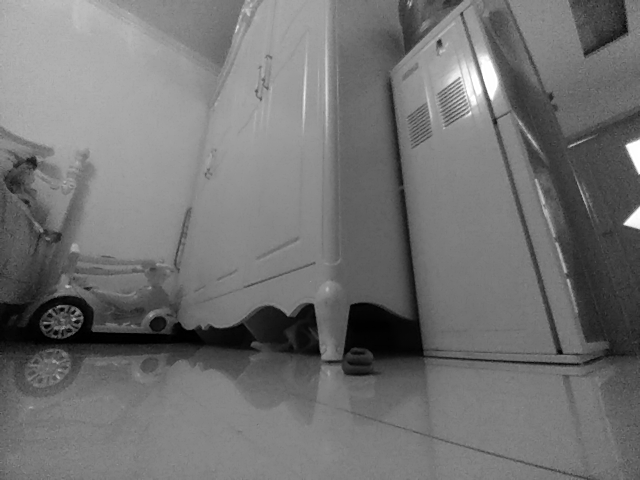pet feces: (341, 345, 382, 376)
